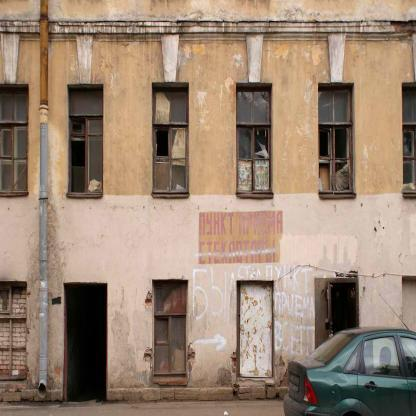Building Outline: (0, 0, 416, 403)
Dont: (283, 293, 416, 416)
Door: (63, 283, 107, 402), (331, 283, 356, 396)
Facade: (0, 0, 416, 403)
Floor: (0, 41, 416, 236)
Floor Slab: (0, 32, 416, 41), (0, 236, 416, 244)
Ground Floor: (0, 245, 416, 403)
Window: (236, 83, 273, 194), (152, 83, 189, 193), (318, 83, 354, 194), (67, 84, 103, 192), (237, 280, 274, 377), (152, 280, 188, 377), (0, 85, 28, 191), (0, 281, 26, 380), (402, 83, 416, 194), (402, 276, 416, 373)
